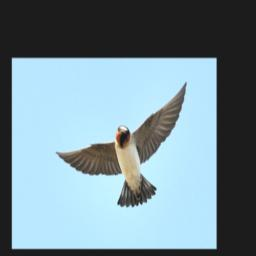Swallow: (55, 80, 188, 208)
